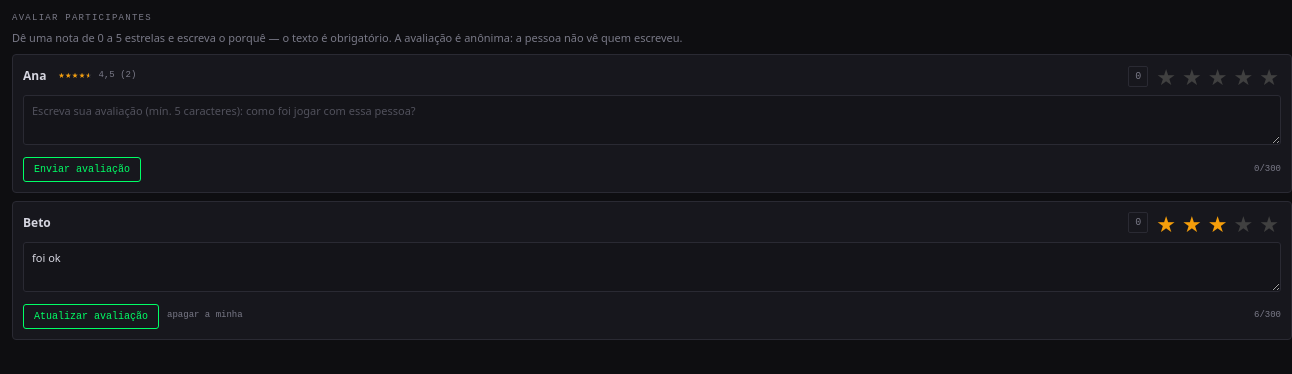
Scenario: AvaliarParticipantes — estrelas e texto obrigatório › o texto obrigatório é imposto pelo servidor: a mensagem dele aparece
Click the radio button named "5 estrelas" at (1269, 76), box [1257, 65, 1281, 87]
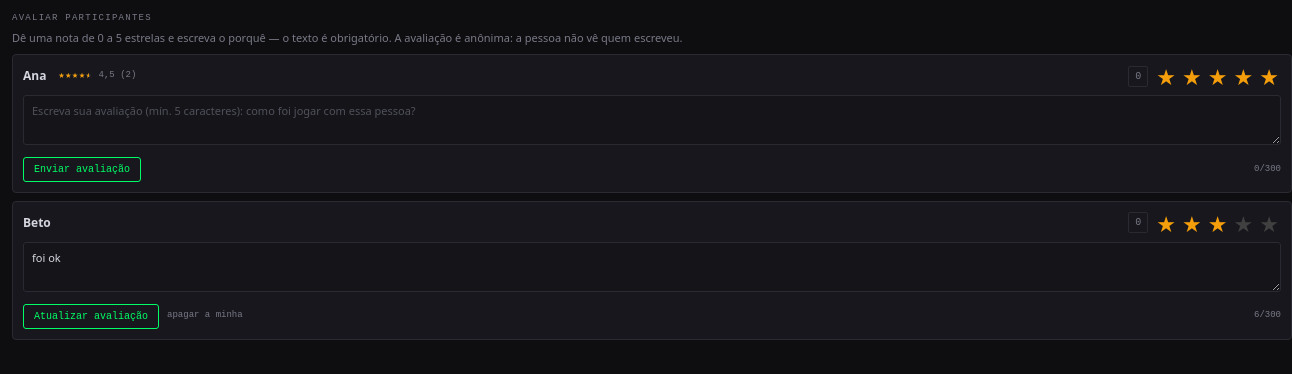
Click the button "Enviar avaliação" at (82, 169), box [23, 157, 141, 182]
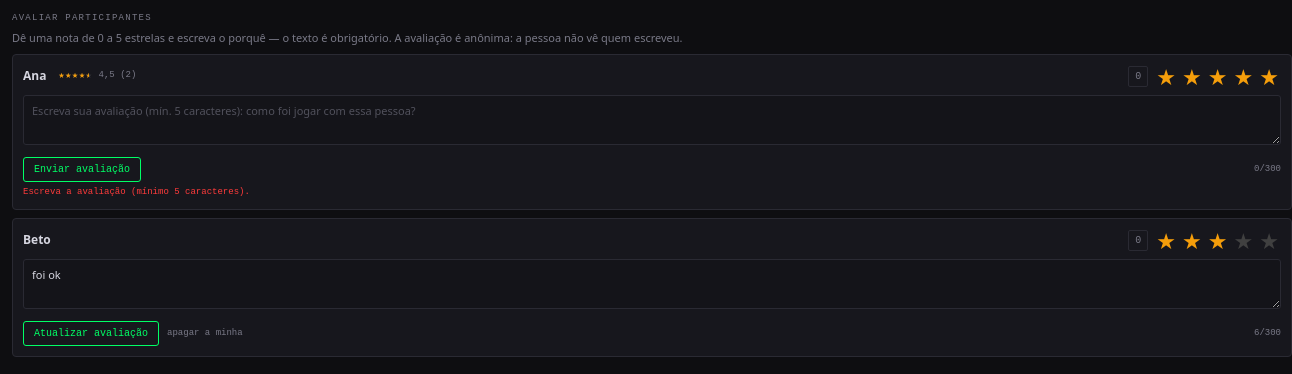
expect the message shows "Escreva a avaliação": met, box [23, 187, 250, 197]
